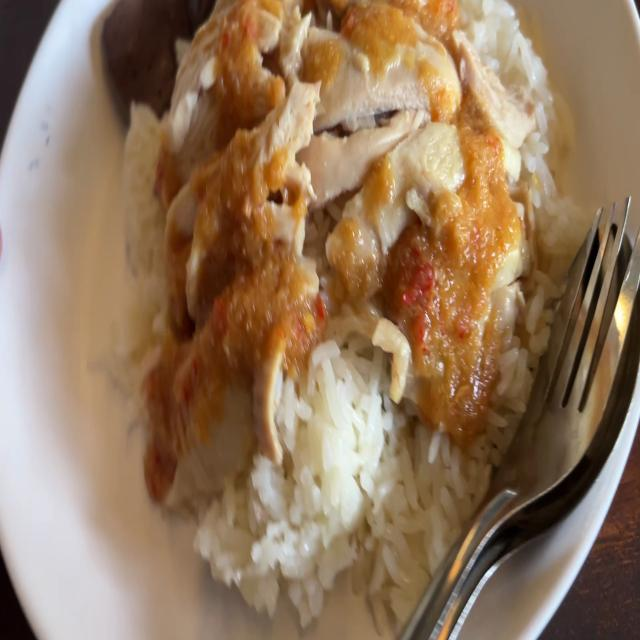chicken_rice: (178, 0, 510, 445)
noodle: (98, 0, 215, 112)
